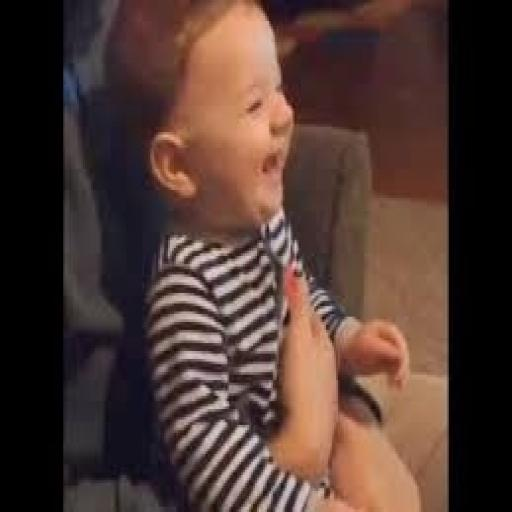laughing: (122, 0, 423, 509)
